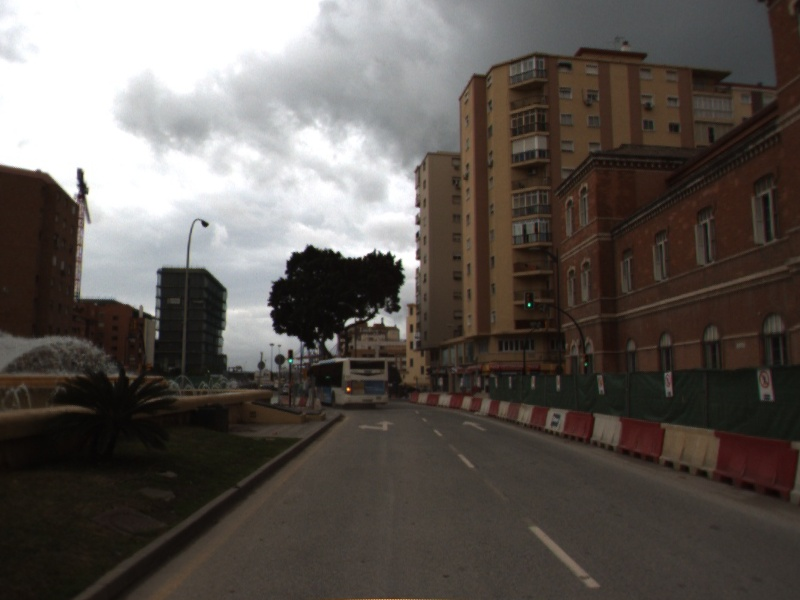STRAIGHT: (460, 418, 490, 433)
STRAIGHT_LEFT: (357, 419, 398, 432)
